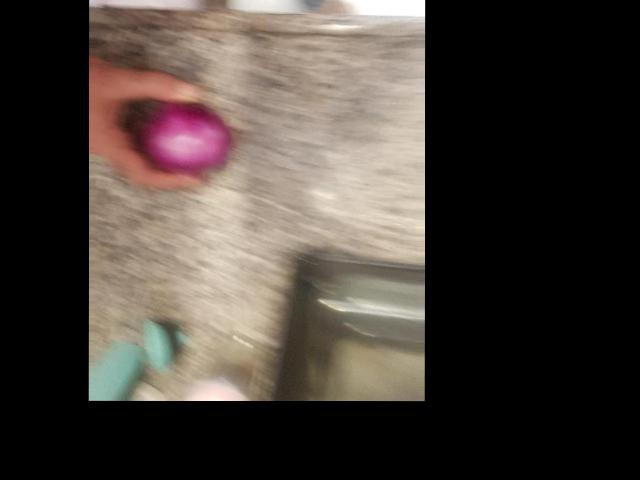onion: (314, 123, 388, 212)
